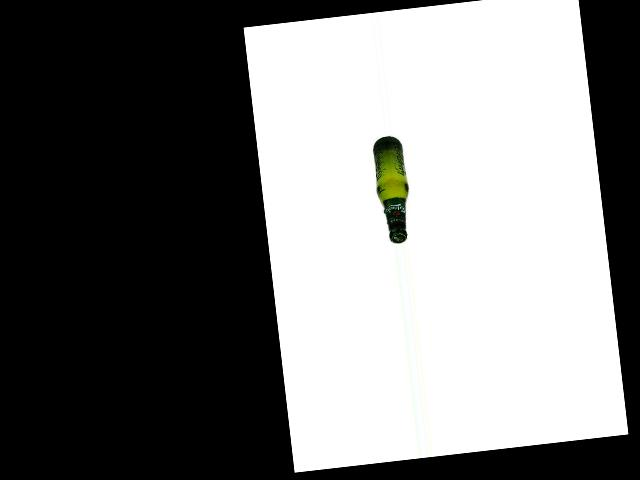beer: (370, 134, 413, 245)
